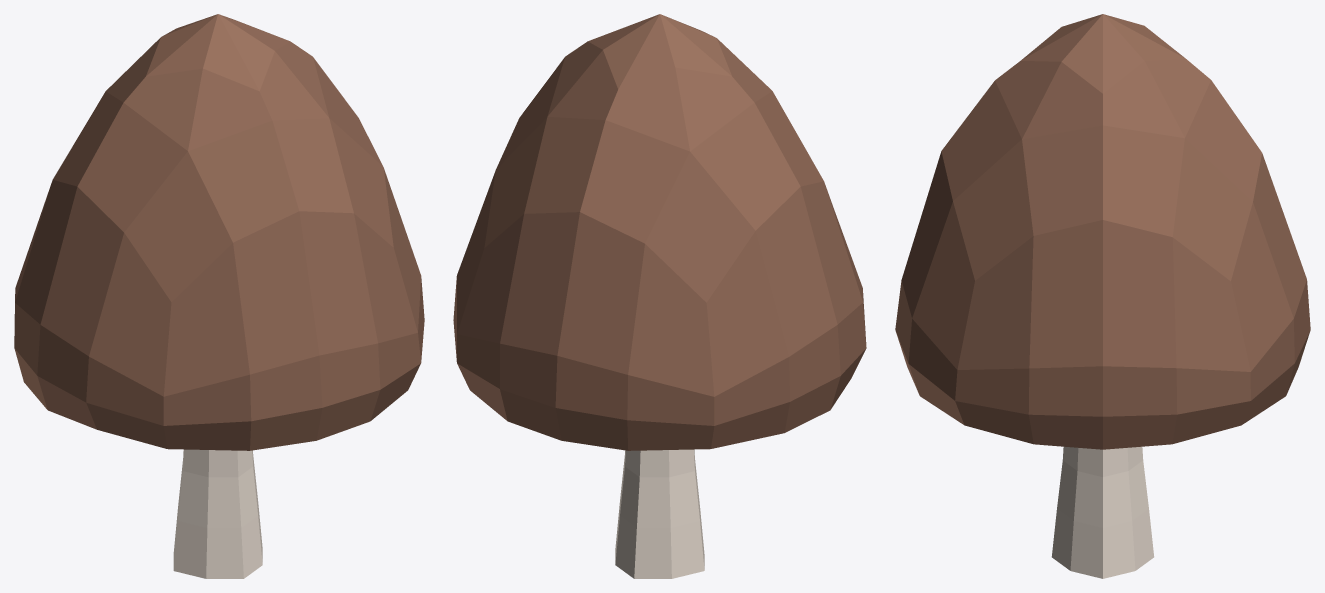
The model's file is large_mushroom.glb.
The picture shows the model from 3 angles, left to right: view 1: azimuth 30°, elevation 25°; view 2: azimuth 150°, elevation 25°; view 3: azimuth 270°, elevation 25°; orthographic projection.
Visible parts, largest first — view 1: large_mushroom; view 2: large_mushroom; view 3: large_mushroom.
Boxes of the visible parts, x1,y1,x2,y2 form: large_mushroom: (14,14,424,578); large_mushroom: (453,14,866,578); large_mushroom: (895,14,1310,578).
Size of the model in its own units: 1.42 by 2.06 by 1.42.
Materials: 1 (1 with a texture image).
